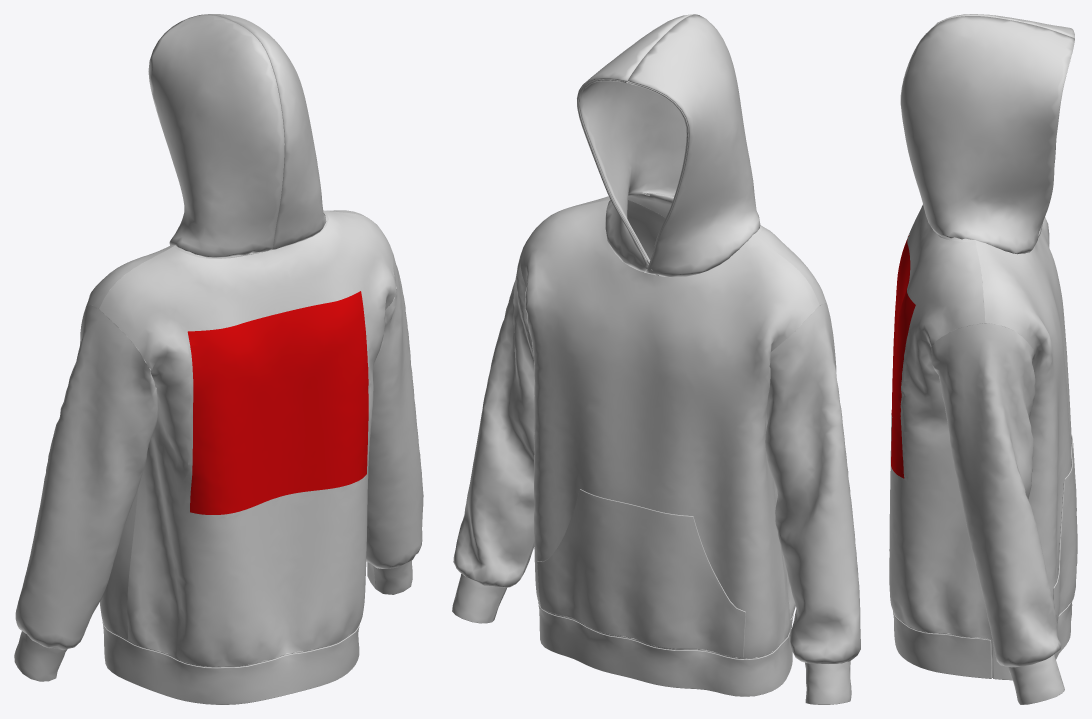
Rendered from newGenieXHoodie.gltf.
3 renders of one model, left to right at view 1: azimuth 30°, elevation 25°; view 2: azimuth 150°, elevation 25°; view 3: azimuth 270°, elevation 25°, orthographic. The views are drawn at different scales.
Parts seen in each view (by area): view 1: Pattern2D_1116363_Node.001, Pattern2D_1116363_Node.002, Pattern2D_1116363_Node.003; view 2: Pattern2D_1116363_Node.001, Pattern2D_1116363_Node.002, Pattern2D_1116363_Node.004; view 3: Pattern2D_1116363_Node.001, Pattern2D_1116363_Node.002, Pattern2D_1116363_Node.003, Pattern2D_1116363_Node.004.
Boxes of the visible parts, x1,y1,x2,y2 form: Pattern2D_1116363_Node.001: [14, 210, 423, 704]; Pattern2D_1116363_Node.002: [148, 14, 326, 257]; Pattern2D_1116363_Node.003: [187, 291, 368, 514]; Pattern2D_1116363_Node.001: [452, 192, 860, 704]; Pattern2D_1116363_Node.002: [577, 14, 760, 277]; Pattern2D_1116363_Node.004: [537, 490, 745, 657]; Pattern2D_1116363_Node.001: [889, 205, 1072, 704]; Pattern2D_1116363_Node.002: [900, 14, 1074, 254]; Pattern2D_1116363_Node.003: [891, 235, 915, 478]; Pattern2D_1116363_Node.004: [1054, 443, 1077, 623].
Bounding box in the file's own units: 0.6599 × 0.997 × 0.2765.
